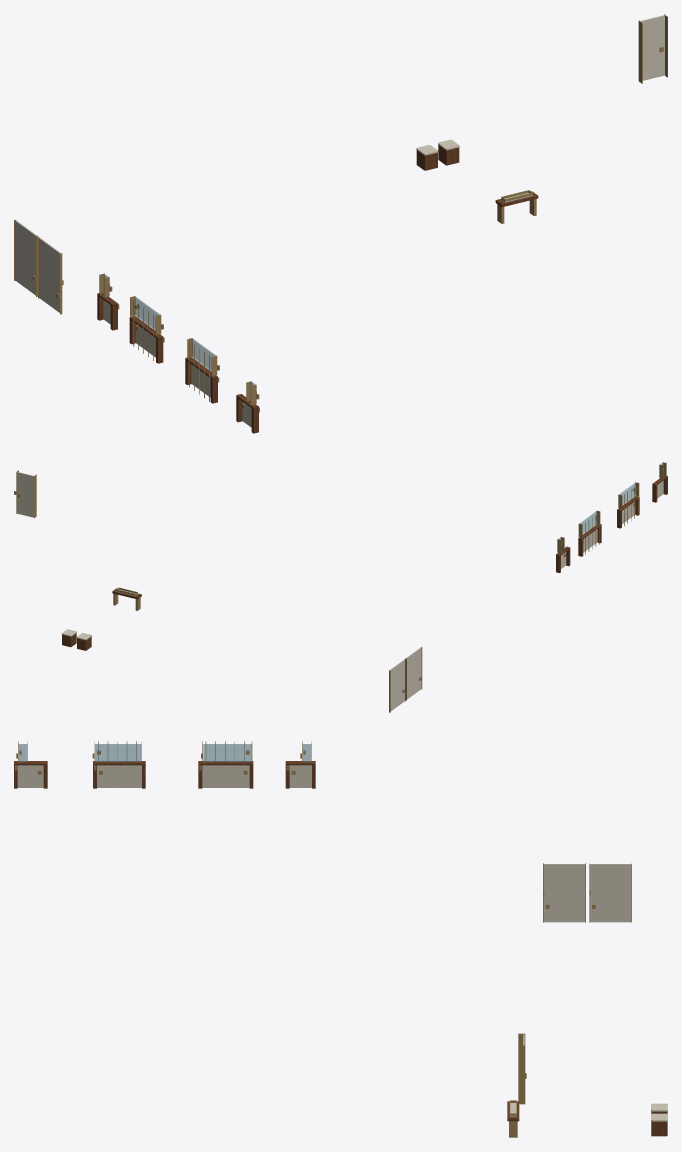
The model's file is D04_PHYSICAL_FITTINGS_r005.glb.
3 views of the same model, one above another, from view 1: azimuth 30°, elevation 25°; view 2: azimuth 150°, elevation 25°; view 3: azimuth 270°, elevation 25° (orthographic). The views are drawn at different scales.
Visible parts, largest first — view 1: D04PC_CourtSouth_Leaf, D04PC_StaffUsed_Leaf, D04PC_StaffClean_Leaf; view 2: D04PC_CourtSouth_Leaf, D04PC_StaffClean_Leaf, D04PC_StaffUsed_Leaf; view 3: D04PC_StaffUsed_Leaf, D04PC_StaffClean_Leaf, D04PC_Hatch_952_1_Leaf, D04PC_Hatch_928_0_Leaf, D04PC_ToolPane_952_1_Leaf, D04PC_ToolPane_928_0_Leaf, D04PC_Hatch_928_1_Leaf.
Boxes of the visible parts, <box> form: D04PC_CourtSouth_Leaf: <box>640,15,664,80</box>; D04PC_StaffUsed_Leaf: <box>15,220,37,295</box>; D04PC_StaffClean_Leaf: <box>39,238,60,312</box>; D04PC_CourtSouth_Leaf: <box>17,472,33,517</box>; D04PC_StaffClean_Leaf: <box>406,647,421,699</box>; D04PC_StaffUsed_Leaf: <box>390,659,404,711</box>; D04PC_StaffUsed_Leaf: <box>589,864,631,922</box>; D04PC_StaffClean_Leaf: <box>543,864,585,922</box>; D04PC_Hatch_952_1_Leaf: <box>202,765,249,787</box>; D04PC_Hatch_928_0_Leaf: <box>97,765,141,787</box>; D04PC_ToolPane_952_1_Leaf: <box>203,744,251,761</box>; D04PC_ToolPane_928_0_Leaf: <box>95,744,141,761</box>; D04PC_Hatch_928_1_Leaf: <box>17,765,43,787</box>.
Size of the model in its own units: 31.6 by 7.2 by 27.31.
4 materials, 3 textured.
